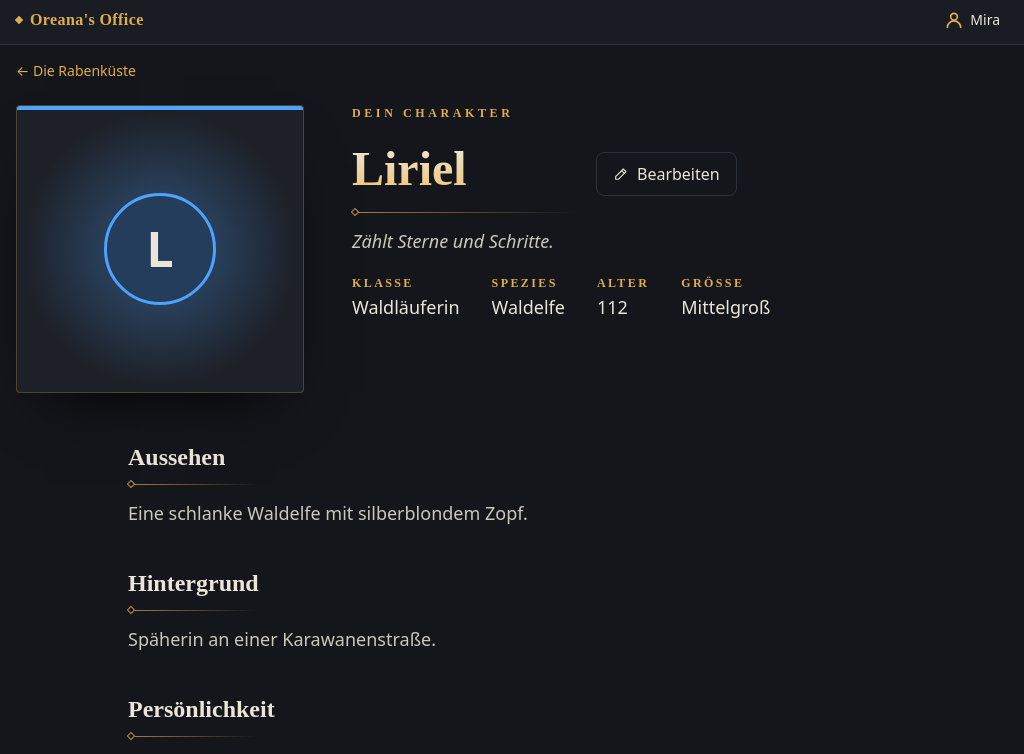
CharacterPage › drops what was typed on cancel
Step 1. Click the button "Bearbeiten" → click(666, 174), box [596,152,737,196]
(page scrolled)
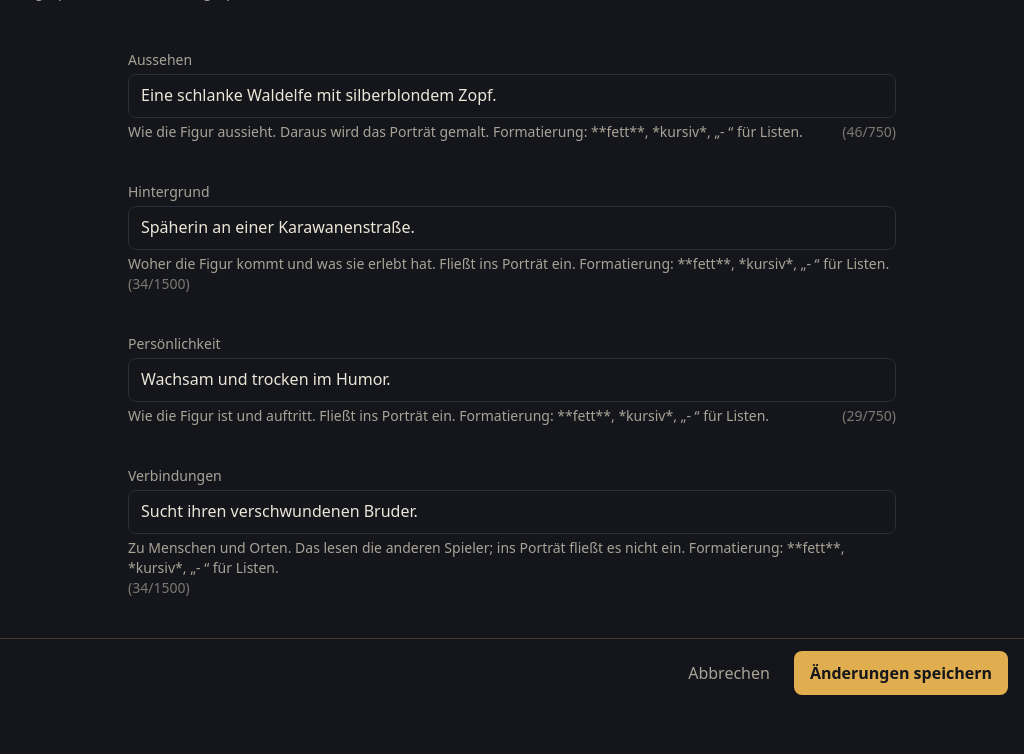
Step 2. Type " und frech" into the text box labelled "Persönlichkeit" → (512, 380), box [128,358,896,402]
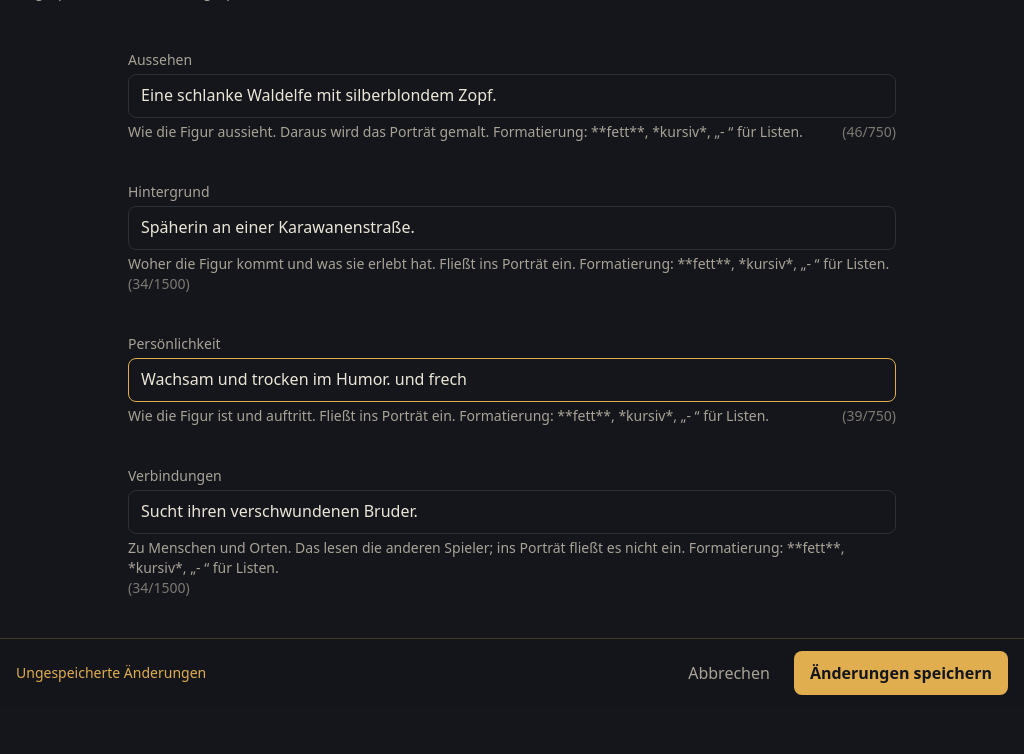
Step 3. Click the button "Abbrechen" → click(729, 673), box [672,651,786,695]
(page scrolled)
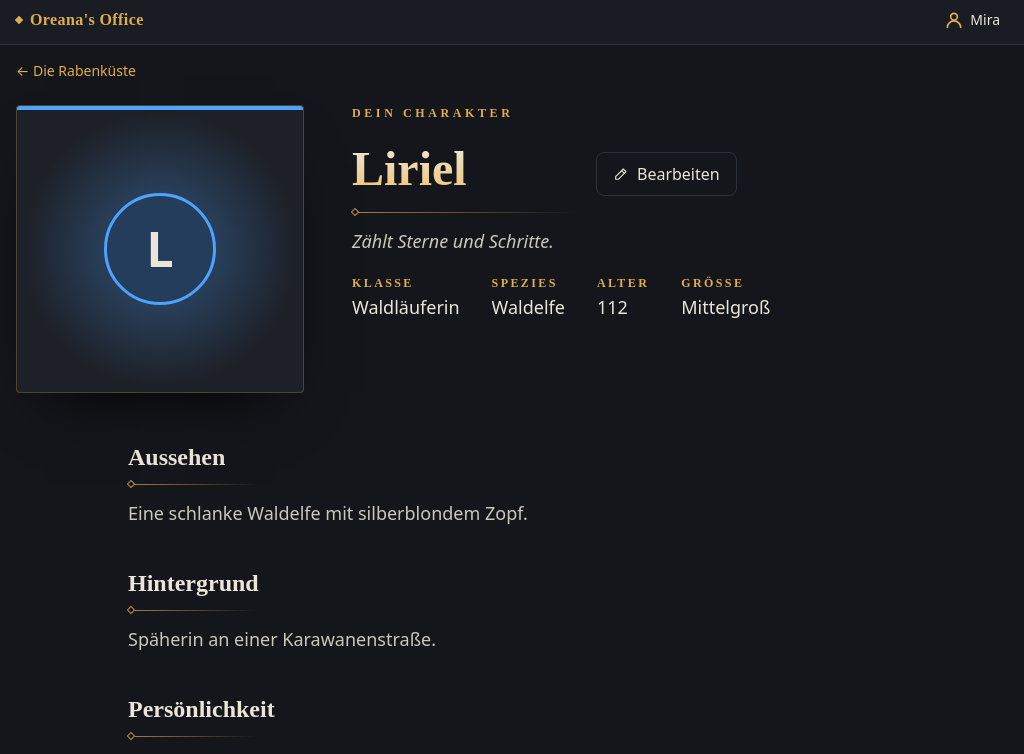
Step 4. Click the button "Bearbeiten" → click(666, 174), box [596,152,737,196]
(page scrolled)
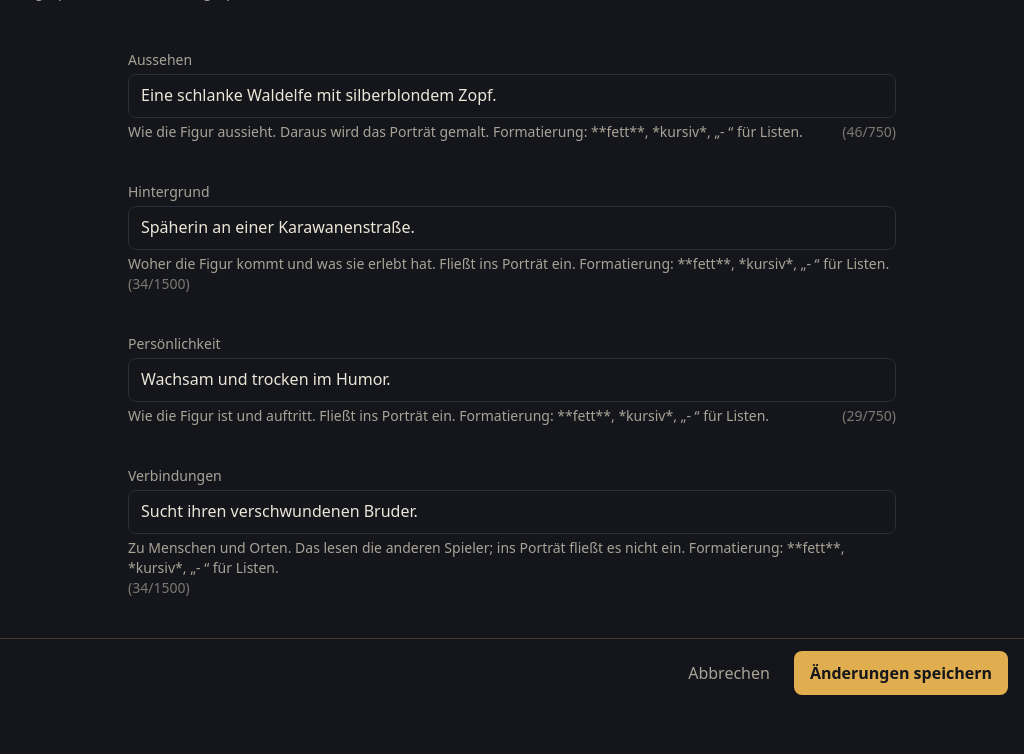
Now the text box labelled "Persönlichkeit" holds "Wachsam und trocken im Humor.", box [128,358,896,402]
